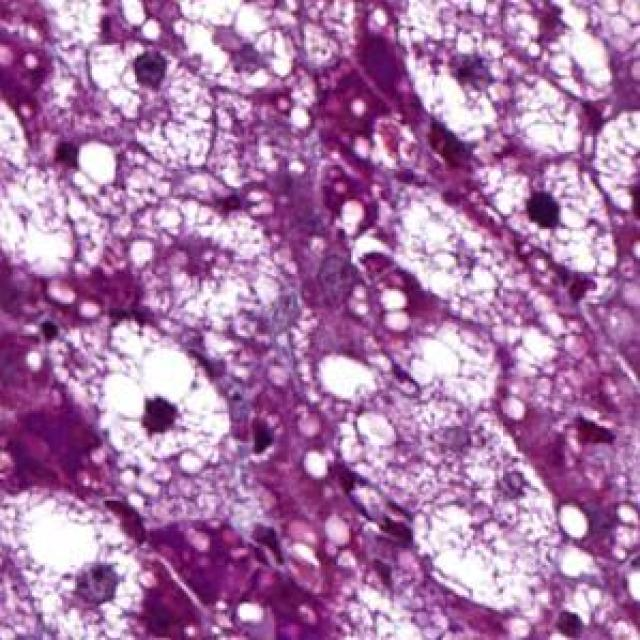ballooning: (85, 319, 238, 494), (124, 193, 289, 351), (402, 30, 586, 165), (84, 38, 218, 174)
